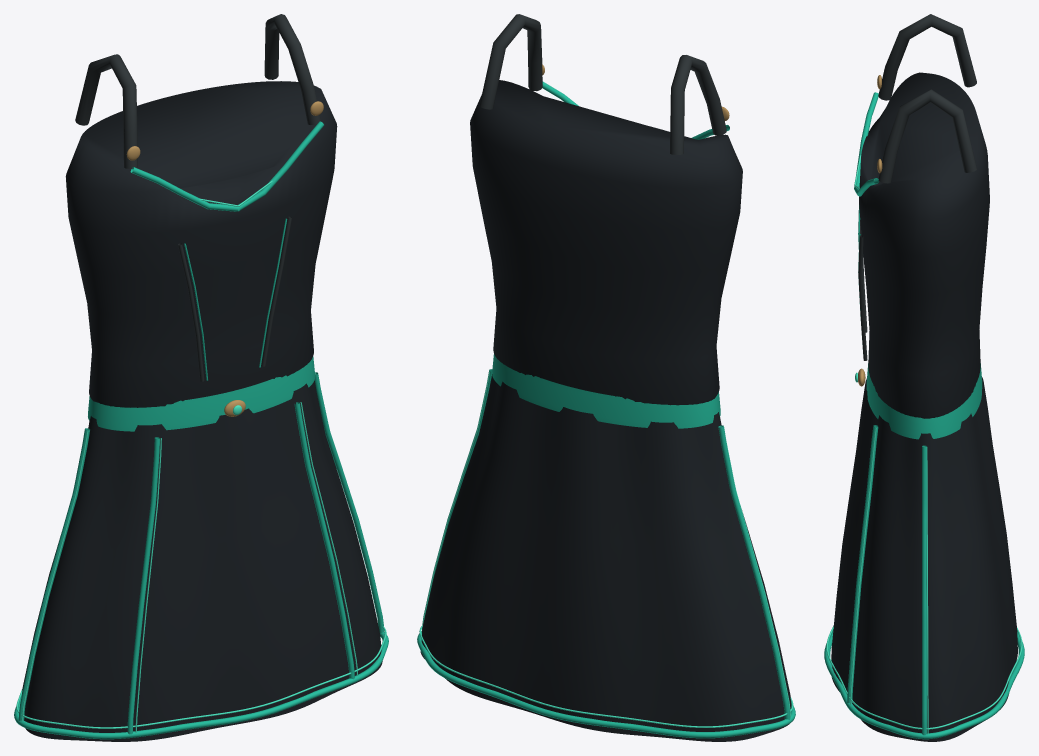
Rendered from vesitdo.glb.
3 views of the same model, side by side, from view 1: azimuth 30°, elevation 25°; view 2: azimuth 150°, elevation 25°; view 3: azimuth 270°, elevation 25° (orthographic). The views are drawn at different scales.
Visible parts, largest first — view 1: Falda_Acampanada_Negra, Torso_Negro_Entallado, Cintura_Jade, Borde_Inferior_Jade, Tirante_Negro_Izquierdo, Tirante_Negro_Derecho, Linea_Jade_Frontal_Izquierdo, Linea_Jade_Frontal_Derecho, Linea_Jade_Lateral_Derecho, Linea_Jade_Lateral_Izquierdo, Pespunte_Dobladillo_Jade, Ribete_Jade_Escote_Izquierdo (+3 smaller); view 2: Falda_Acampanada_Negra, Torso_Negro_Entallado, Cintura_Jade, Borde_Inferior_Jade, Tirante_Negro_Izquierdo, Tirante_Negro_Derecho, Linea_Jade_Lateral_Izquierdo, Pespunte_Dobladillo_Jade; view 3: Falda_Acampanada_Negra, Torso_Negro_Entallado, Cintura_Jade, Tirante_Negro_Derecho, Tirante_Negro_Izquierdo, Borde_Inferior_Jade, Linea_Jade_Frontal_Derecho, Linea_Jade_Lateral_Derecho, Pespunte_Dobladillo_Jade, Pinza_Negra_Derecha, Pespunte_Lateral_Derecho, Pespunte_Frontal_Derecho (+1 smaller).
Part boxes in pixels (<box>): Falda_Acampanada_Negra: <box>22,380,382,741</box>; Torso_Negro_Entallado: <box>65,81,337,407</box>; Cintura_Jade: <box>88,356,315,431</box>; Borde_Inferior_Jade: <box>14,632,388,739</box>; Tirante_Negro_Izquierdo: <box>75,54,137,168</box>; Tirante_Negro_Derecho: <box>264,14,320,124</box>; Linea_Jade_Frontal_Izquierdo: <box>127,437,159,734</box>; Linea_Jade_Frontal_Derecho: <box>294,402,354,679</box>; Linea_Jade_Lateral_Derecho: <box>314,372,384,633</box>; Linea_Jade_Lateral_Izquierdo: <box>18,428,90,720</box>; Pespunte_Dobladillo_Jade: <box>16,626,386,728</box>; Ribete_Jade_Escote_Izquierdo: <box>130,167,238,211</box>; Falda_Acampanada_Negra: <box>420,374,791,741</box>; Torso_Negro_Entallado: <box>470,80,742,405</box>; Cintura_Jade: <box>492,354,720,428</box>; Borde_Inferior_Jade: <box>417,631,795,738</box>; Tirante_Negro_Izquierdo: <box>670,55,726,154</box>; Tirante_Negro_Derecho: <box>479,14,542,109</box>; Linea_Jade_Lateral_Izquierdo: <box>718,425,790,719</box>; Pespunte_Dobladillo_Jade: <box>419,625,793,727</box>; Falda_Acampanada_Negra: <box>831,377,1017,741</box>; Torso_Negro_Entallado: <box>859,72,989,418</box>; Cintura_Jade: <box>866,363,982,439</box>; Tirante_Negro_Derecho: <box>878,89,976,183</box>; Tirante_Negro_Izquierdo: <box>878,14,976,100</box>; Borde_Inferior_Jade: <box>824,630,1024,739</box>; Linea_Jade_Frontal_Derecho: <box>847,425,878,702</box>; Linea_Jade_Lateral_Derecho: <box>922,445,926,735</box>; Pespunte_Dobladillo_Jade: <box>826,625,1022,729</box>; Pinza_Negra_Derecha: <box>858,235,867,360</box>; Pespunte_Lateral_Derecho: <box>926,447,928,734</box>; Pespunte_Frontal_Derecho: <box>850,427,876,704</box>.
Size of the model in its own units: 1.2 by 2.03 by 0.6058.
